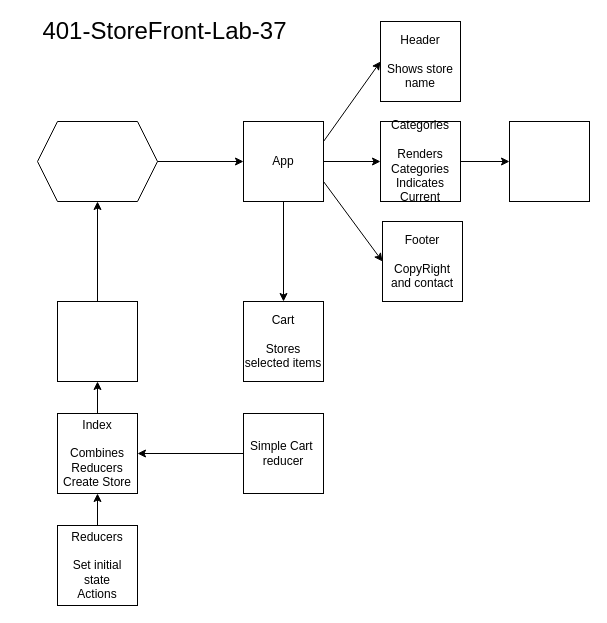
The diagram is 607 pixels wide and 623 high, and some of its shapes have lost their labels. Each missing label, with the centre of its shape:
Products Product details: the point at 549,161
Redux: the point at 97,161
Store State for Whole Site: the point at 97,341
